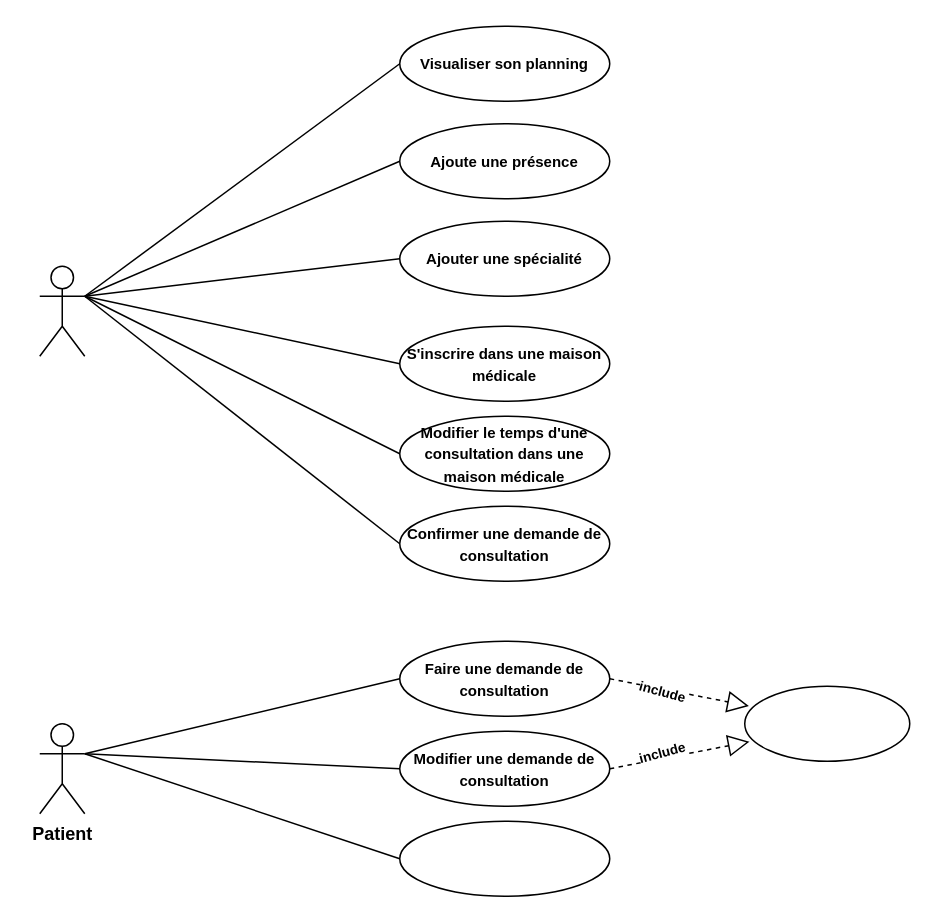
The diagram is 936 pixels wide and 923 high, and some of its shapes have lost their labels. The shapes that lost their labels are listed below. From the top down, each one's centre as x and y in pixels, then its label:
At (x=61, y=310): "Médecin".
At (x=826, y=723): "Vérifier la disponibilité d'un médecin".
At (x=504, y=858): "Supprimer une demande de consultation".
